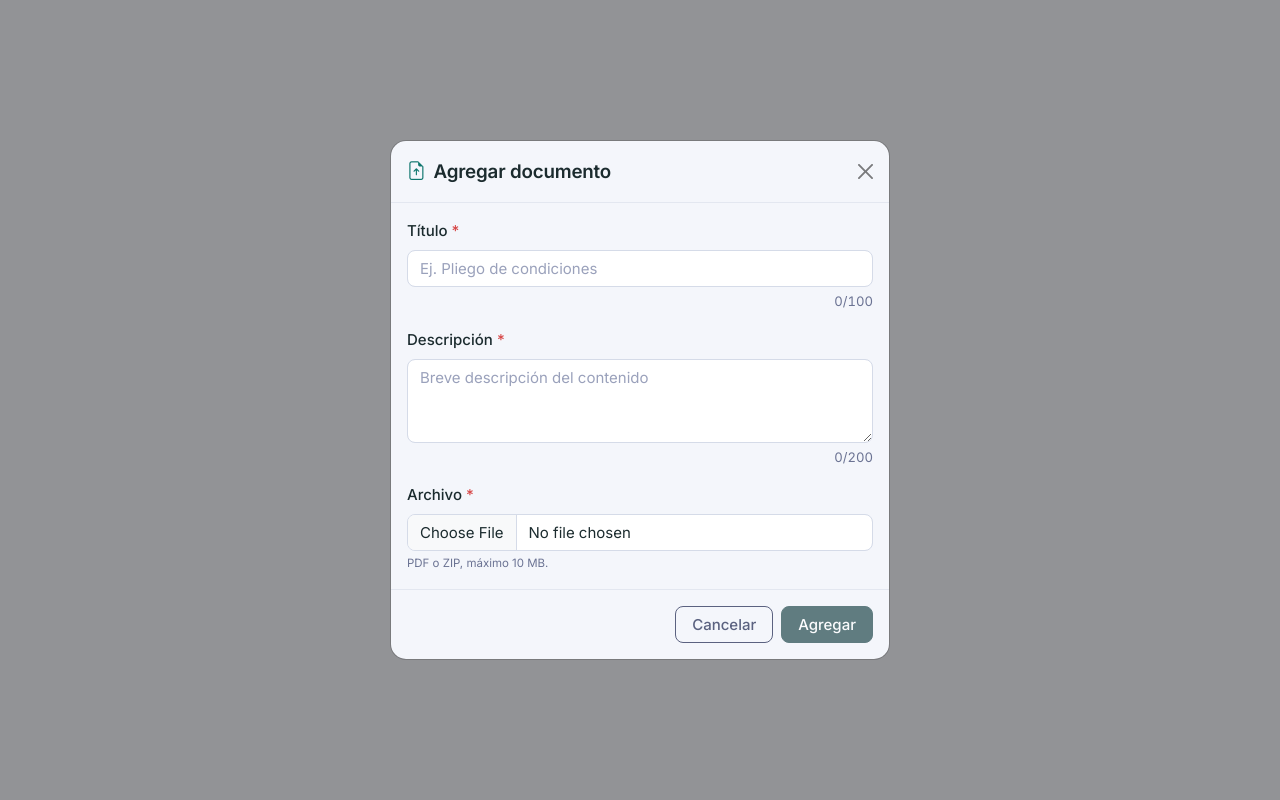
Test: DocumentModal › shows character counters and limits typing
Type "Pliego" into the field with id "document-title" at (640, 269), box [407,250,873,287]
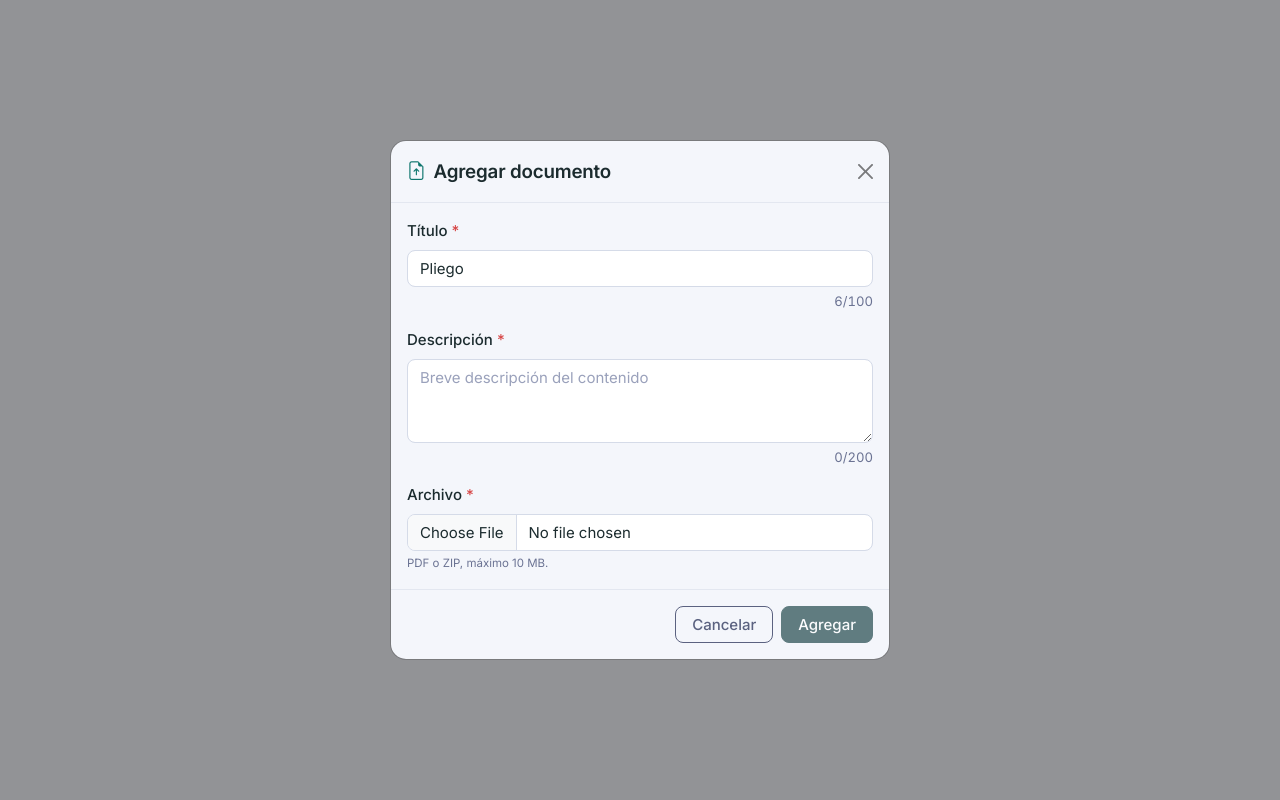
Check: the text "6/100" is shown, box [834,291,873,312]
